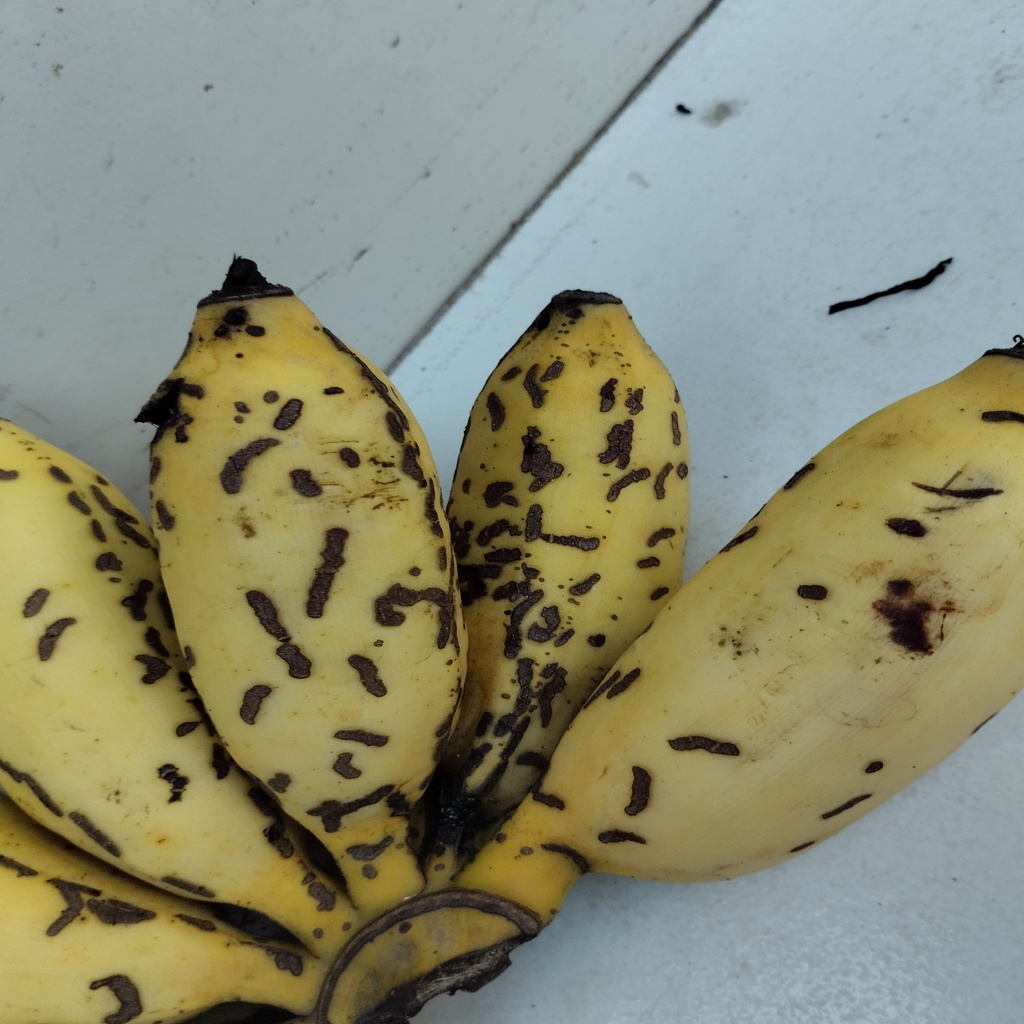unhealthy: (583, 350, 1021, 884), (151, 296, 470, 849), (435, 299, 692, 800)
